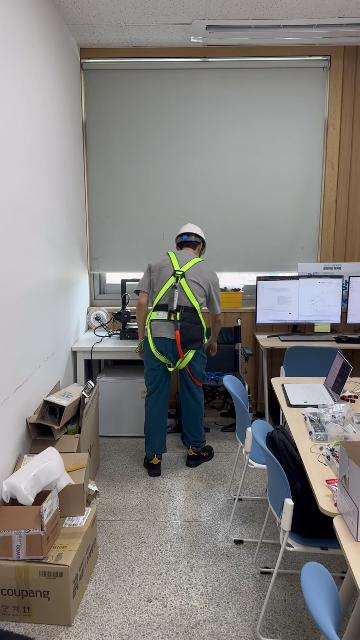helmet_worn: (175, 224, 206, 258)
shoe_worn: (186, 444, 213, 468), (143, 453, 162, 476)
vest_worn: (143, 254, 210, 369)
